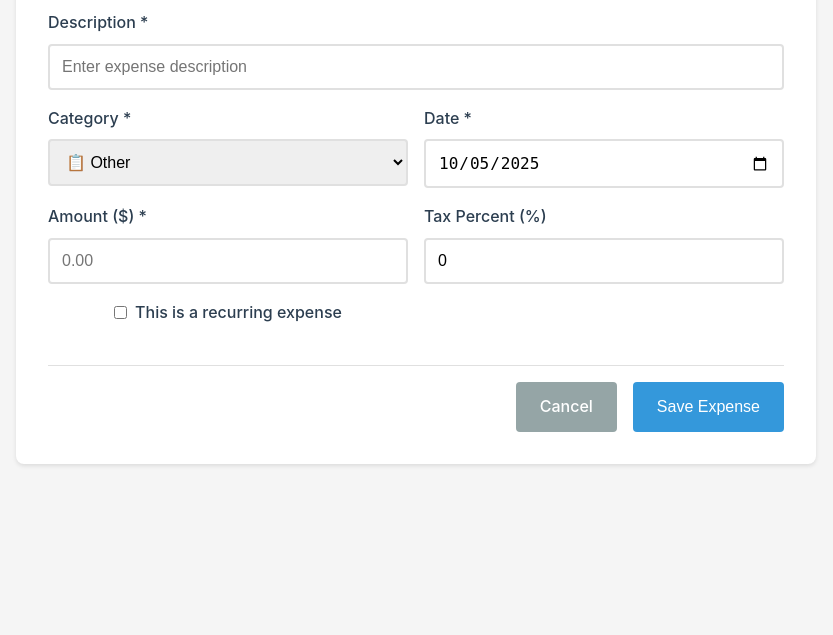
Test: ExpenseForm Component › calculates total amount correctly
The image size is (833, 635).
In the number field labelled "Amount ($) *": (228, 261) [48,238,408,284], type "100"
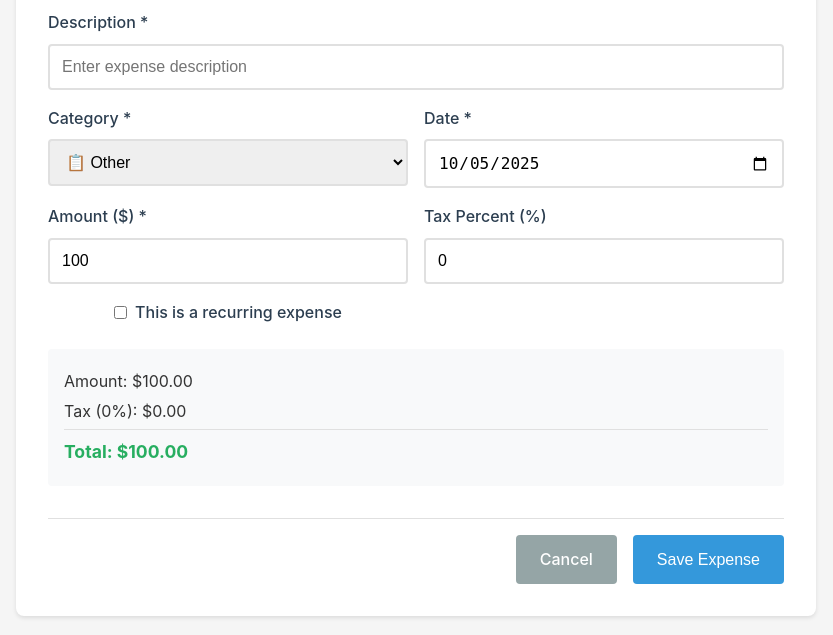
In the number field labelled "Tax Percent (%)": (604, 261) [424,238,784,284], type "10"
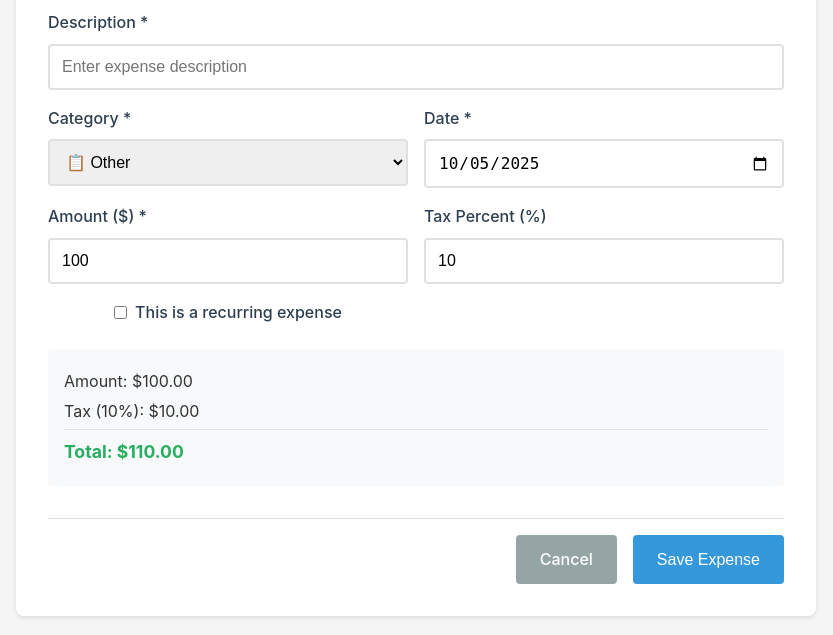
Expected: the text "Total: $110.00" is shown, [64,429,768,466]
